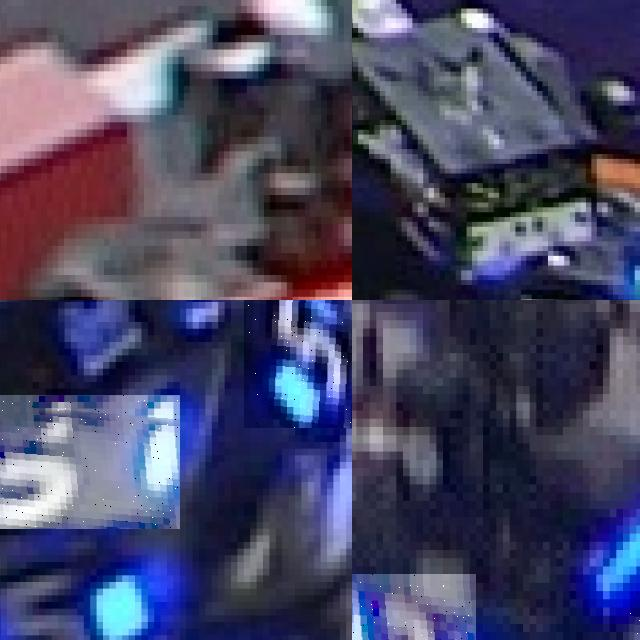B3: (352, 574, 476, 640)
B5: (0, 395, 180, 528), (244, 300, 352, 428), (0, 555, 141, 640)
